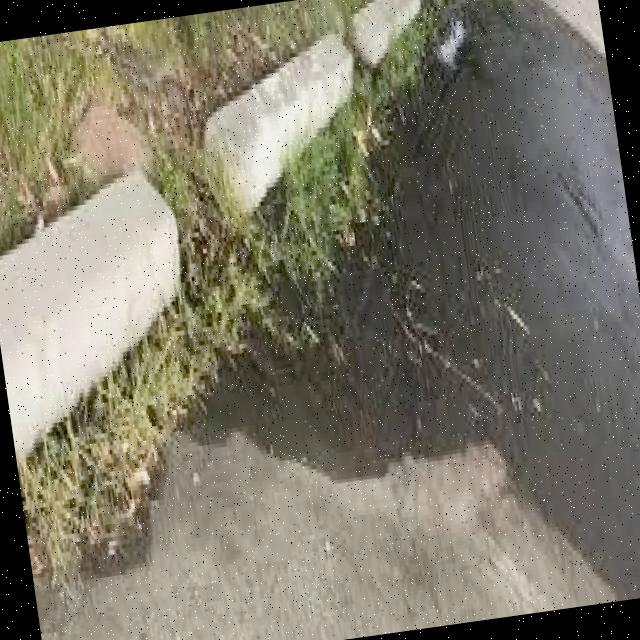curb: (1, 1, 420, 468)
